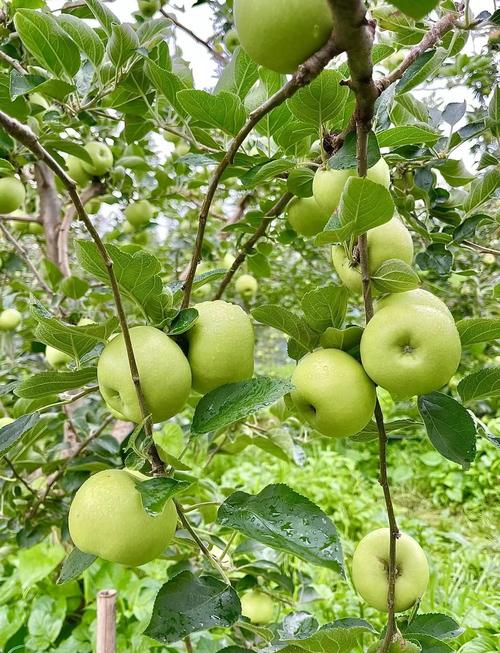unripe: (50, 463, 187, 566), (82, 317, 195, 425), (355, 298, 475, 393), (282, 340, 381, 446), (167, 293, 267, 393), (228, 0, 341, 75), (341, 523, 438, 605), (328, 215, 423, 298), (310, 147, 406, 218)
